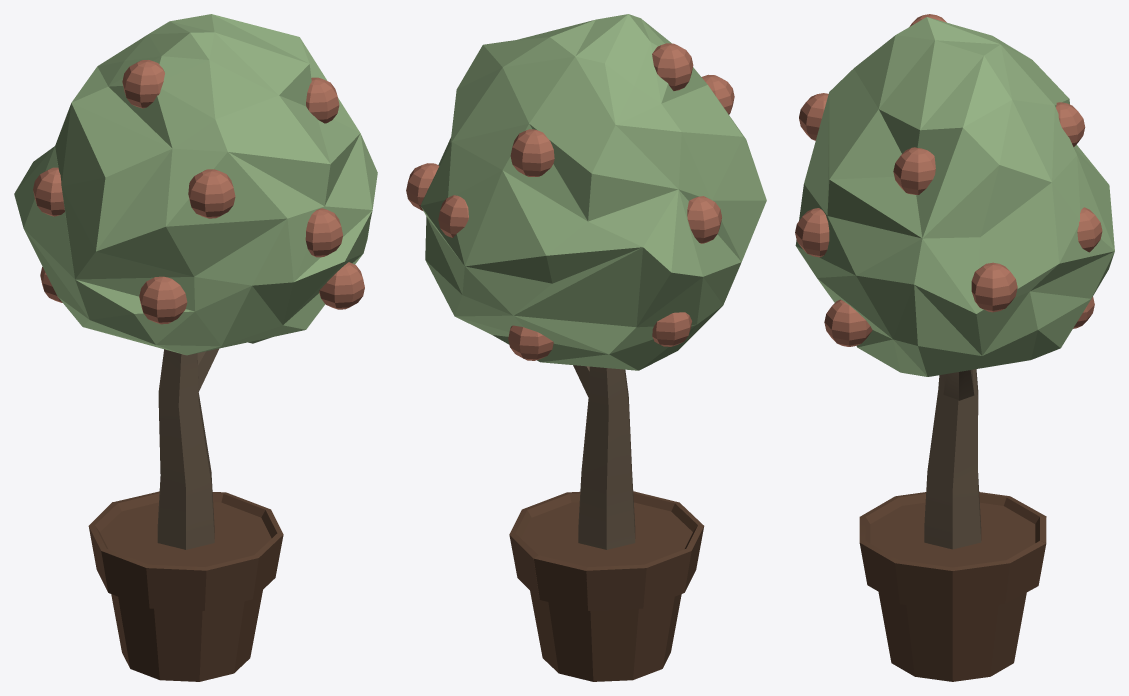
Rendered from tree fruit.fbx.
3 renders of one model, left to right at view 1: azimuth 30°, elevation 25°; view 2: azimuth 150°, elevation 25°; view 3: azimuth 270°, elevation 25°, orthographic.
Parts seen in each view (by area): view 1: pCube2; view 2: pCube2; view 3: pCube2.
Part boxes in pixels (<box>): pCube2: <box>14,14,377,681</box>; pCube2: <box>406,14,766,681</box>; pCube2: <box>795,14,1114,681</box>.
Bounding box in the file's own units: 6.51 × 12.74 × 5.83.
